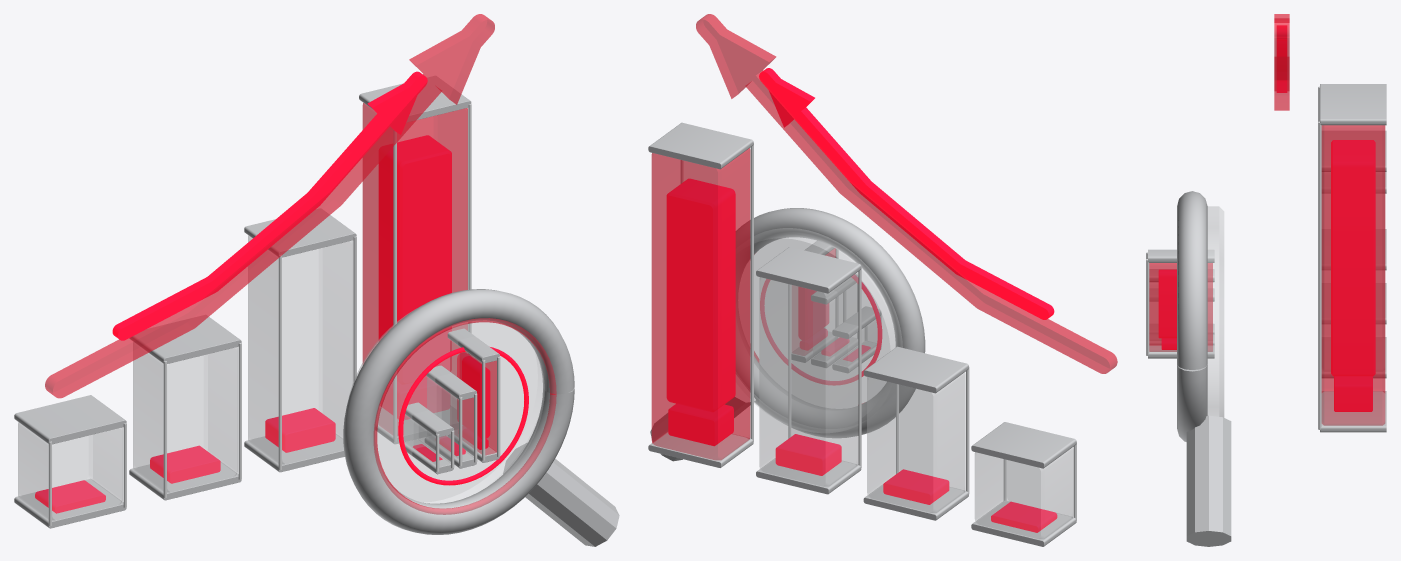
Rendered from 41-forecast.glb.
3 renders of one model, left to right at view 1: azimuth 30°, elevation 25°; view 2: azimuth 150°, elevation 25°; view 3: azimuth 270°, elevation 25°, orthographic. The views are drawn at different scales.
Parts seen in each view (by area): view 1: BC clear optical glass, BC satin iron, BC ruby optical glass, BC internal ruby light, BC polished iron bevel; view 2: BC clear optical glass, BC ruby optical glass, BC satin iron, BC internal ruby light, BC polished iron bevel; view 3: BC ruby optical glass, BC satin iron, BC internal ruby light, BC clear optical glass, BC polished iron bevel.
Boxes of the visible parts, bbox=[...] form: BC clear optical glass: bbox=[18, 235, 544, 519]; BC satin iron: bbox=[14, 76, 619, 546]; BC ruby optical glass: bbox=[45, 14, 556, 514]; BC internal ruby light: bbox=[35, 71, 528, 513]; BC polished iron bevel: bbox=[48, 103, 500, 525]; BC clear optical glass: bbox=[736, 228, 1073, 538]; BC ruby optical glass: bbox=[651, 14, 1117, 459]; BC satin iron: bbox=[648, 122, 1076, 546]; BC internal ruby light: bbox=[666, 68, 1057, 532]; BC polished iron bevel: bbox=[681, 142, 1076, 520]; BC ruby optical glass: bbox=[1149, 14, 1385, 425]; BC satin iron: bbox=[1148, 84, 1386, 546]; BC internal ruby light: bbox=[1158, 25, 1375, 411]; BC clear optical glass: bbox=[1150, 172, 1384, 417]; BC polished iron bevel: bbox=[1146, 86, 1321, 429].
Bounding box in the file's own units: 2.12 × 1.98 × 0.8657.
